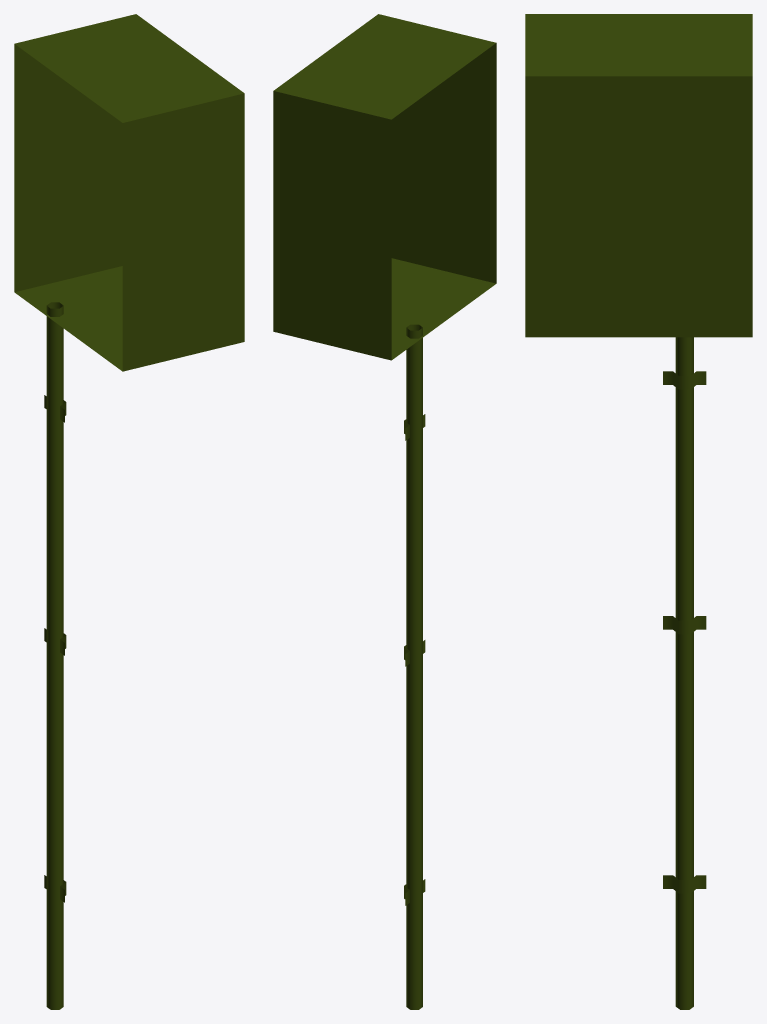
The model's file is Electric Box3_M.fbx.
3 views of the same model, side by side, from view 1: azimuth 30°, elevation 25°; view 2: azimuth 150°, elevation 25°; view 3: azimuth 270°, elevation 25° (orthographic). The views are drawn at different scales.
Parts seen in each view (by area): view 1: Electric Box3; view 2: Electric Box3; view 3: Electric Box3.
Boxes of the visible parts, bbox=[...] form: Electric Box3: bbox=[14, 14, 244, 1009]; Electric Box3: bbox=[273, 14, 496, 1009]; Electric Box3: bbox=[525, 14, 752, 1009].
Size of the model in its own units: 0.0629 by 0.4641 by 0.0968.
